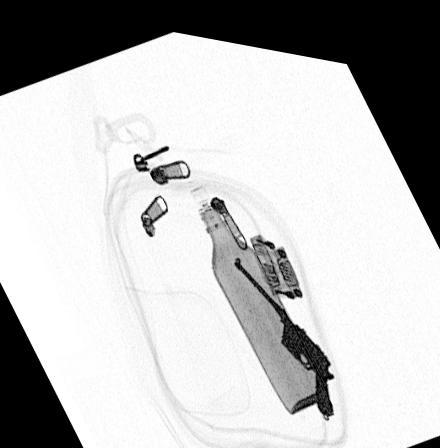Gun: (233, 245, 336, 403)
